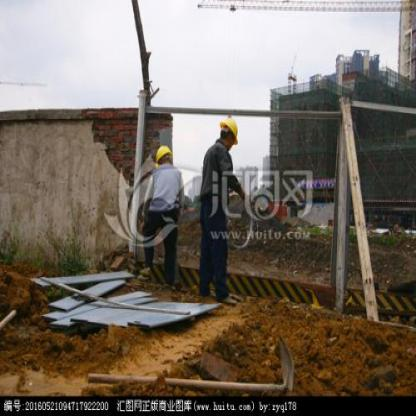helmet: (216, 115, 240, 149), (154, 140, 174, 171)
